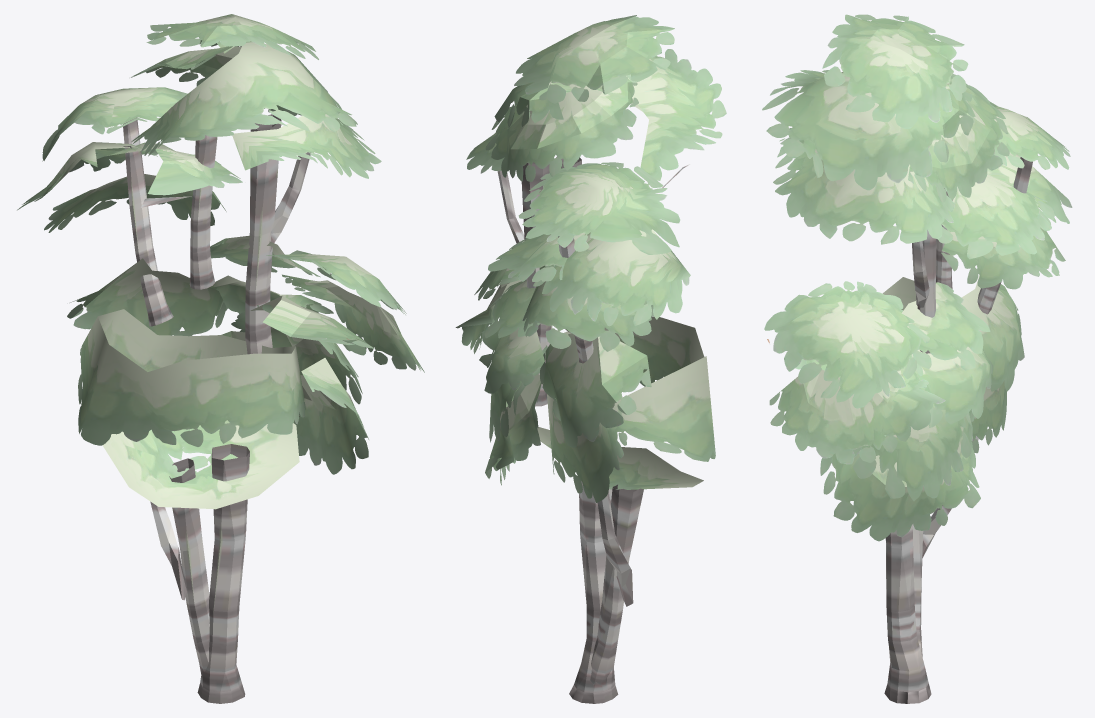
The model's file is TreeBirchLargeMarshy_a.fbx.
3 views of the same model, side by side, from view 1: azimuth 30°, elevation 25°; view 2: azimuth 150°, elevation 25°; view 3: azimuth 270°, elevation 25° (orthographic). The views are drawn at different scales.
Visible parts, largest first — view 1: TreeBirchTrunkLarge; view 2: TreeBirchTrunkLarge, TreeBirchStumpLarge; view 3: TreeBirchTrunkLarge, TreeBirchStumpLarge.
Part boxes in pixels (x1,y1,x2,y2): TreeBirchTrunkLarge: [17, 14, 424, 692]; TreeBirchTrunkLarge: [455, 15, 726, 692]; TreeBirchStumpLarge: [569, 685, 618, 703]; TreeBirchTrunkLarge: [762, 14, 1072, 692]; TreeBirchStumpLarge: [884, 684, 931, 703].
Size of what is drawn, in the model's own units: 5.65 by 12.13 by 5.41.
